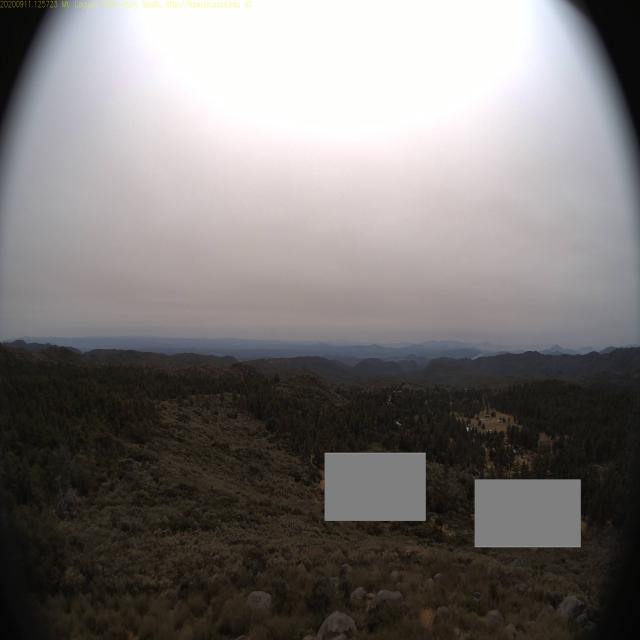smoke: (487, 337, 507, 358), (471, 350, 484, 362)
